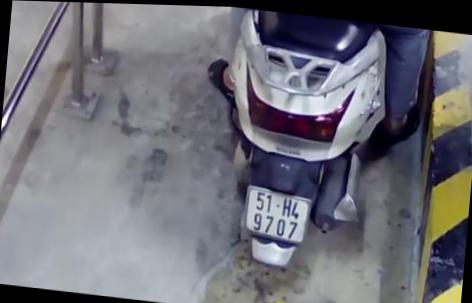LP: (241, 181, 311, 241)
